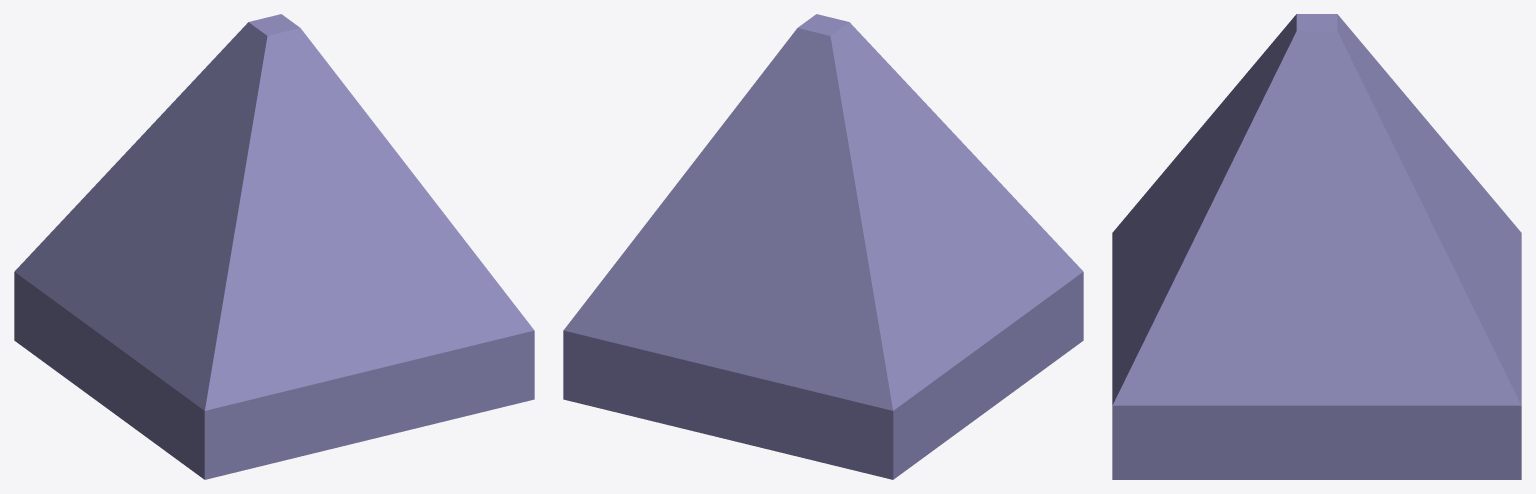
File: building_roof1.obj
The picture shows the model from 3 angles, left to right: view 1: azimuth 30°, elevation 25°; view 2: azimuth 150°, elevation 25°; view 3: azimuth 270°, elevation 25°; orthographic projection. The views are drawn at different scales.
Parts seen in each view (by area): view 1: mergedBlocks; view 2: mergedBlocks; view 3: mergedBlocks.
Part boxes in pixels (bbox=[...]): mergedBlocks: bbox=[14, 14, 534, 479]; mergedBlocks: bbox=[563, 14, 1083, 479]; mergedBlocks: bbox=[1112, 14, 1521, 479].
Size of the model in its own units: 1 by 1 by 1.
